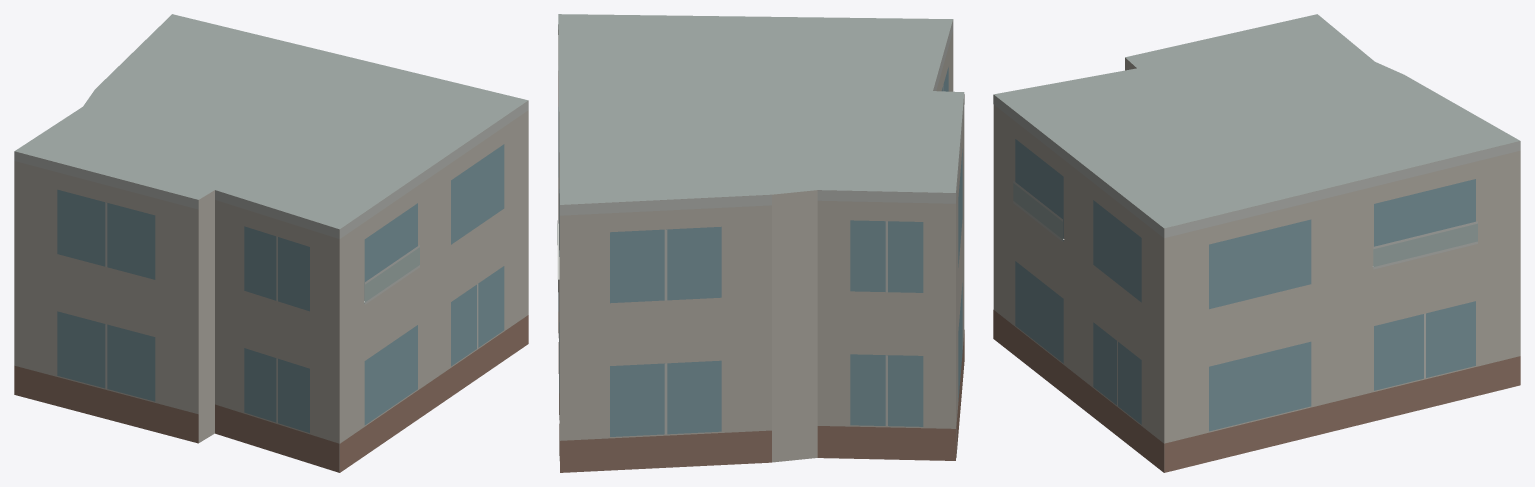
Rendered from survey-upis-32835916.glb.
3 renders of one model, left to right at view 1: azimuth 30°, elevation 25°; view 2: azimuth 150°, elevation 25°; view 3: azimuth 270°, elevation 25°, orthographic. The views are drawn at different scales.
Visible parts, largest first — view 1: survey-upis-32835916.tmp; view 2: survey-upis-32835916.tmp; view 3: survey-upis-32835916.tmp.
Boxes of the visible parts, left/top/right/bottom form: survey-upis-32835916.tmp: left=14, top=14, right=528, bottom=472; survey-upis-32835916.tmp: left=557, top=14, right=964, bottom=472; survey-upis-32835916.tmp: left=993, top=14, right=1520, bottom=472.
Bounding box in the file's own units: 11.49 × 6.1 × 11.93.
